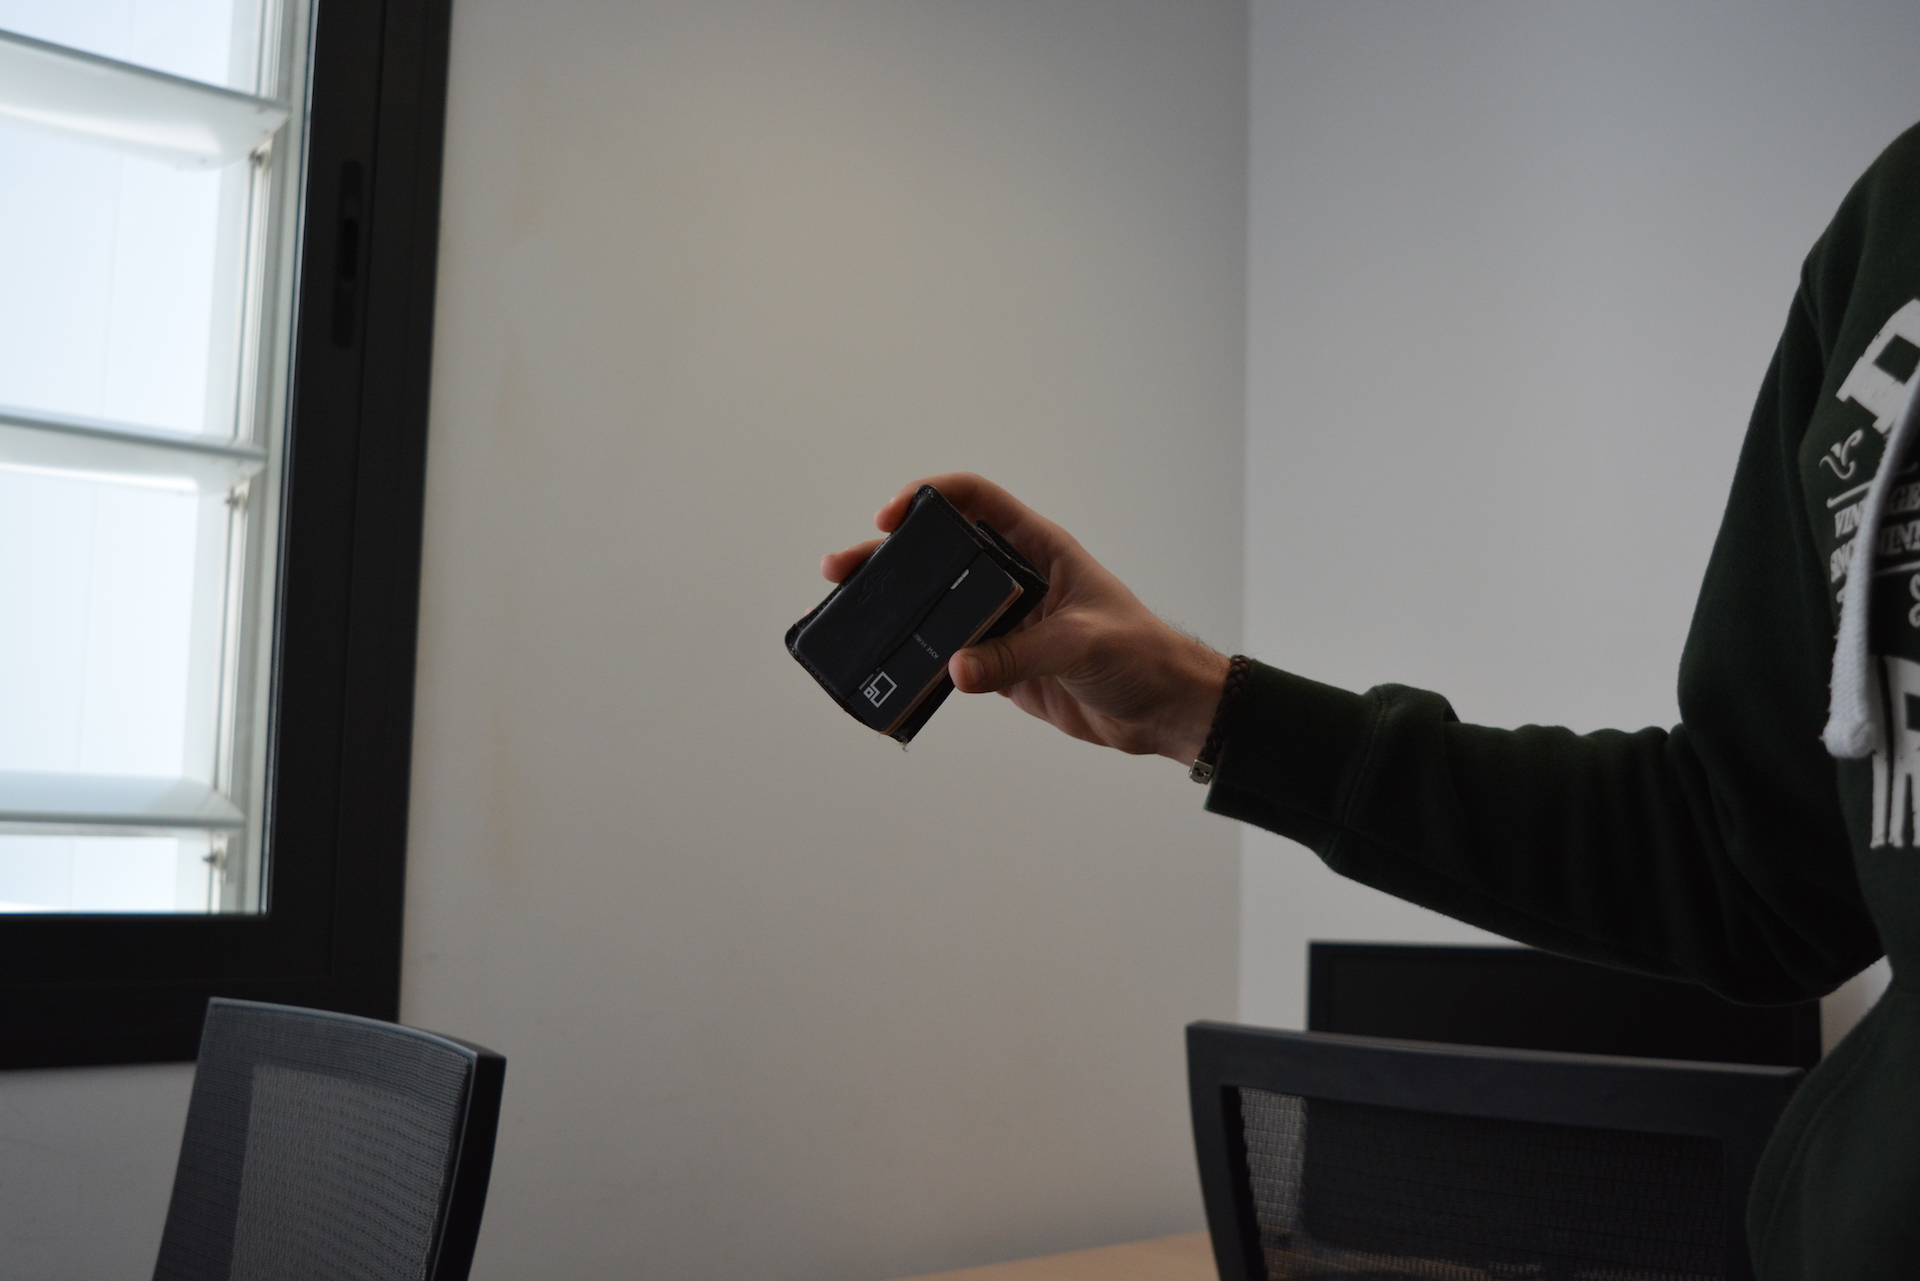monedero: (782, 482, 1054, 746)
